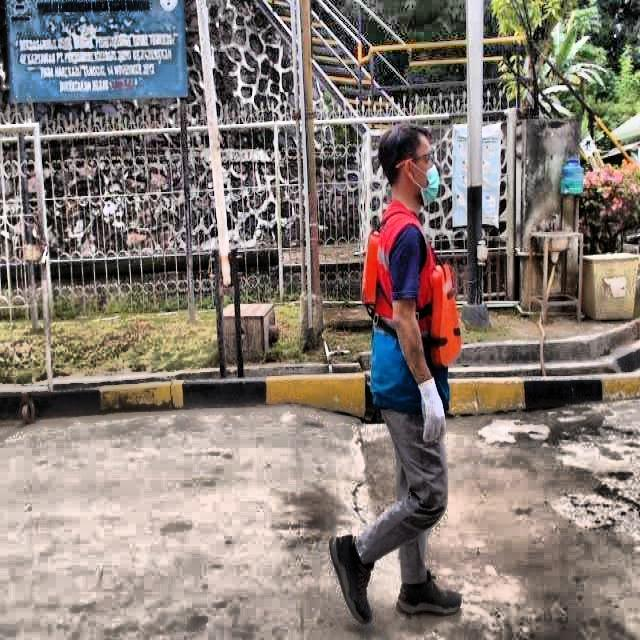safety_jacket: (364, 203, 465, 417)
